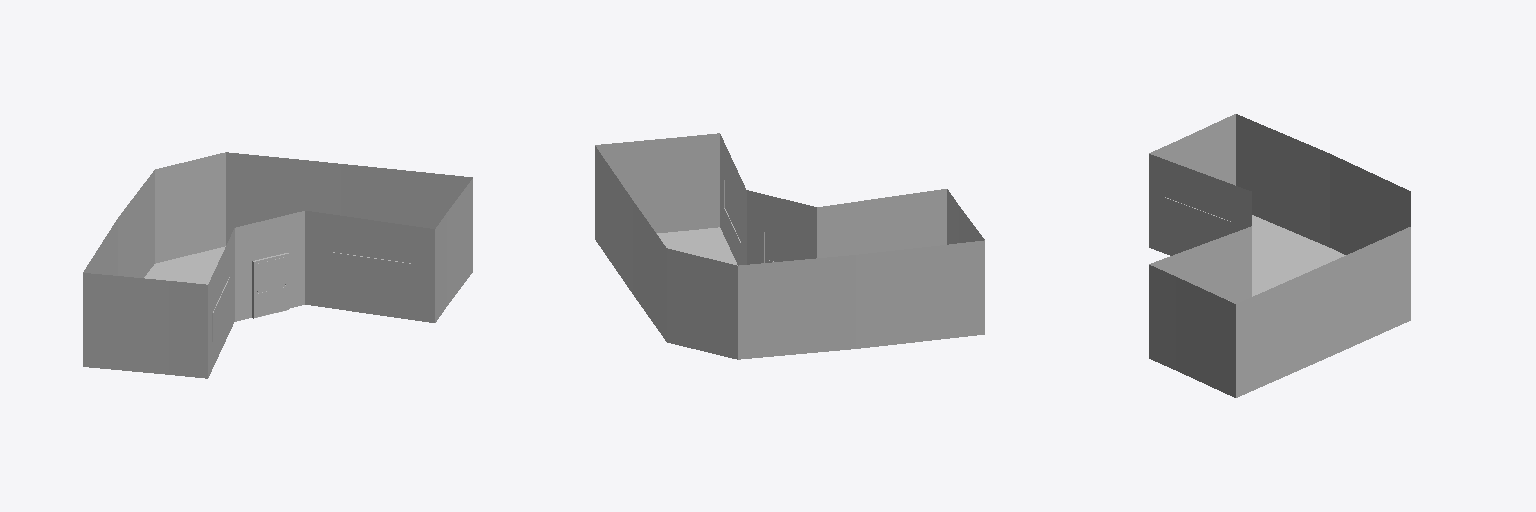
The model's file is Inside Diner.obj.
3 renders of one model, left to right at view 1: azimuth 30°, elevation 25°; view 2: azimuth 150°, elevation 25°; view 3: azimuth 270°, elevation 25°, orthographic.
Parts seen in each view (by area): view 1: Walls, Floor; view 2: Walls, Floor; view 3: Walls, Floor.
Boxes of the visible parts, <box> form: Walls: <box>83,152,472,378</box>; Floor: <box>144,246,225,284</box>; Walls: <box>595,133,984,359</box>; Floor: <box>657,227,737,265</box>; Walls: <box>1149,114,1410,397</box>; Floor: <box>1252,215,1345,296</box>.
Bounding box in the file's own units: 40 × 9.22 × 23.3.